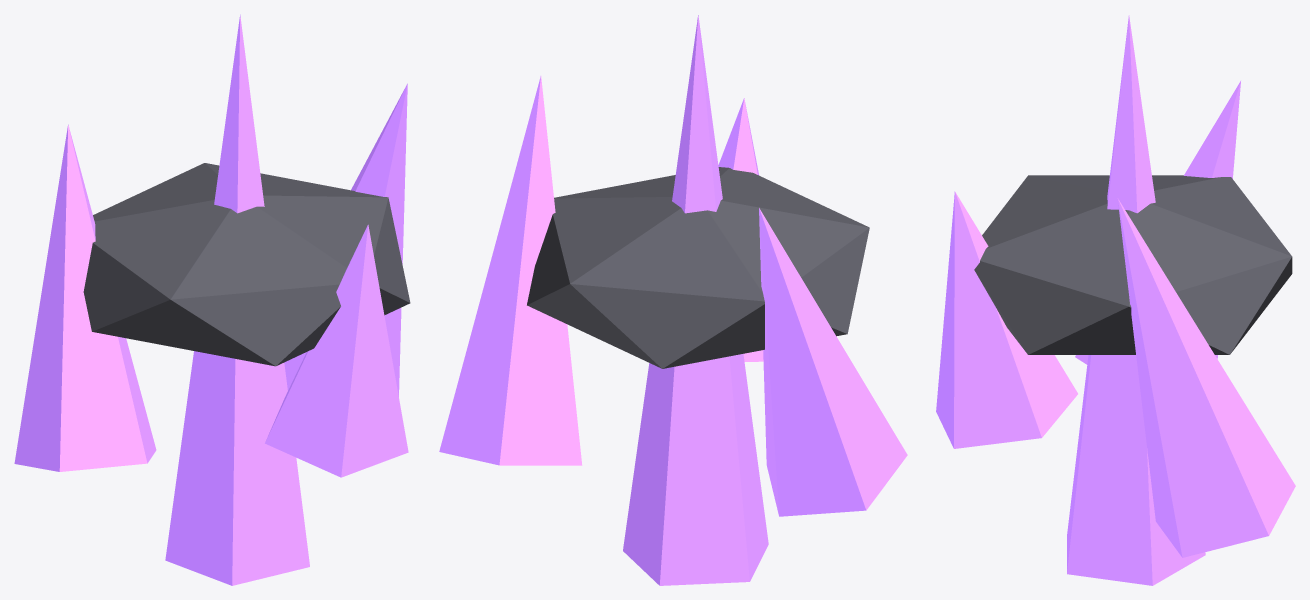
File: lowpoly-crystal_cluster.glb
3 views of the same model, side by side, from view 1: azimuth 30°, elevation 25°; view 2: azimuth 150°, elevation 25°; view 3: azimuth 270°, elevation 25° (orthographic).
Parts seen in each view (by area): view 1: crystal_cluster; view 2: crystal_cluster; view 3: crystal_cluster.
Part boxes in pixels (x1,y1,x2,y2): crystal_cluster: (14, 14, 410, 585); crystal_cluster: (439, 15, 907, 585); crystal_cluster: (936, 15, 1295, 585).
Size of the model in its own units: 1.04 by 1.4 by 0.8438.
